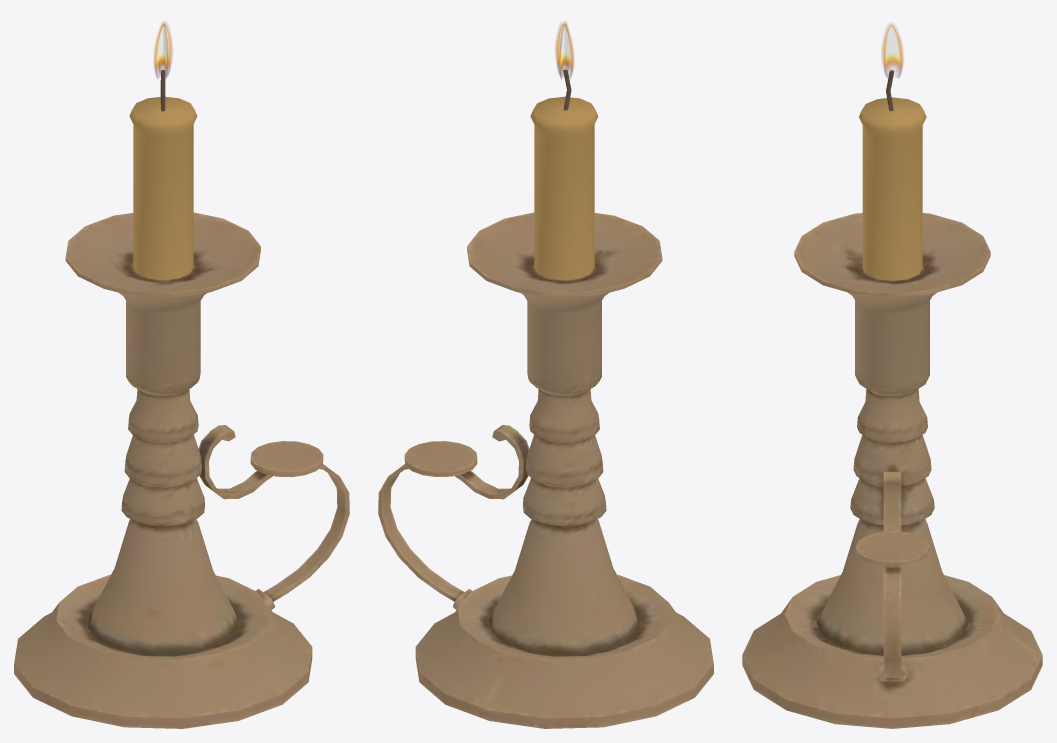
Rendered from obj_candle_holder.glb.
3 renders of one model, left to right at view 1: azimuth 30°, elevation 25°; view 2: azimuth 150°, elevation 25°; view 3: azimuth 270°, elevation 25°, orthographic.
Visible parts, largest first — view 1: Cylinder001_Material #33_0; view 2: Cylinder001_Material #33_0; view 3: Cylinder001_Material #33_0.
Boxes of the visible parts, box(x1,y1,x2,y2) form: Cylinder001_Material #33_0: box(14, 22, 349, 728); Cylinder001_Material #33_0: box(378, 22, 713, 728); Cylinder001_Material #33_0: box(742, 24, 1042, 728).
Bounding box in the file's own units: 0.1518 × 0.3 × 0.1266.
3 materials, 3 textured.
